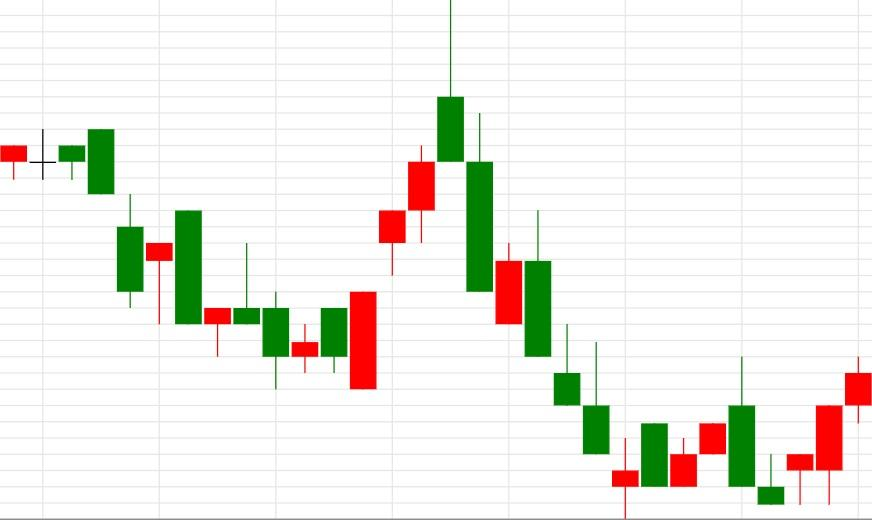bearish_engulfing_fall: (611, 357, 756, 519)
bullish_engulfing_rise: (87, 129, 379, 390)
